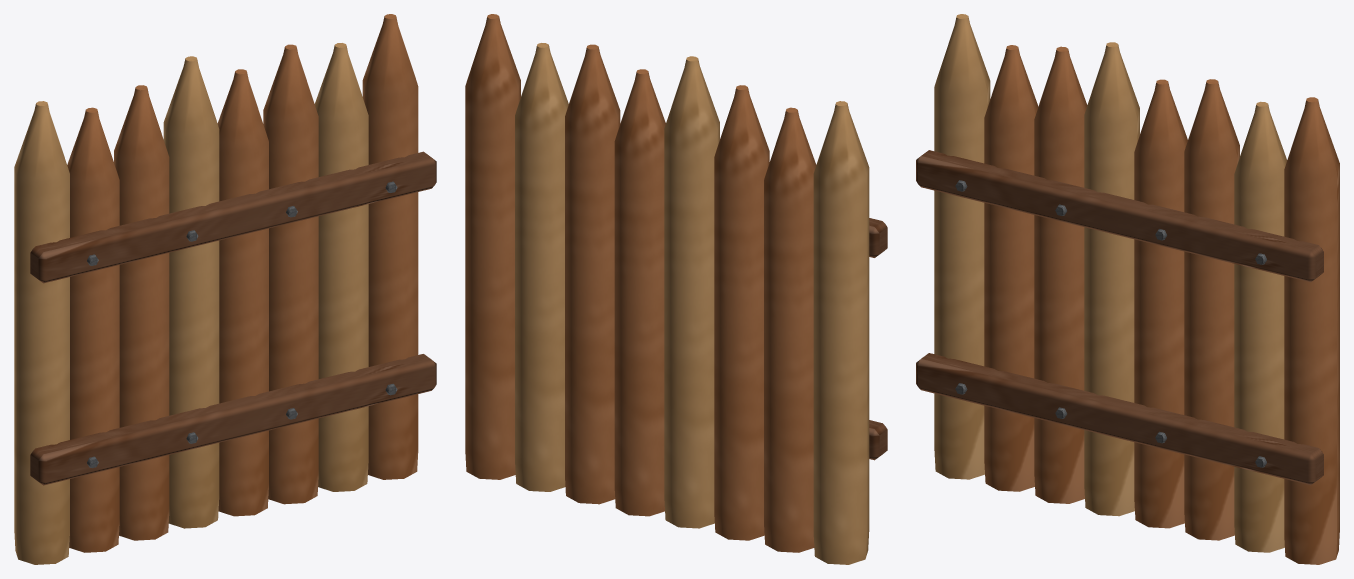
The model's file is SM_Palisade.glb.
The picture shows the model from 3 angles, left to right: view 1: azimuth 30°, elevation 25°; view 2: azimuth 150°, elevation 25°; view 3: azimuth 330°, elevation 25°; orthographic projection.
Visible parts, largest first — view 1: SM_Palisade; view 2: SM_Palisade; view 3: SM_Palisade.
Part boxes in pixels (x1,y1,x2,y2): SM_Palisade: (14,14,436,564); SM_Palisade: (465,14,887,564); SM_Palisade: (916,14,1339,564).
Size of the model in its own units: 2 by 2.2 by 0.363.
1 material, 1 textured.
